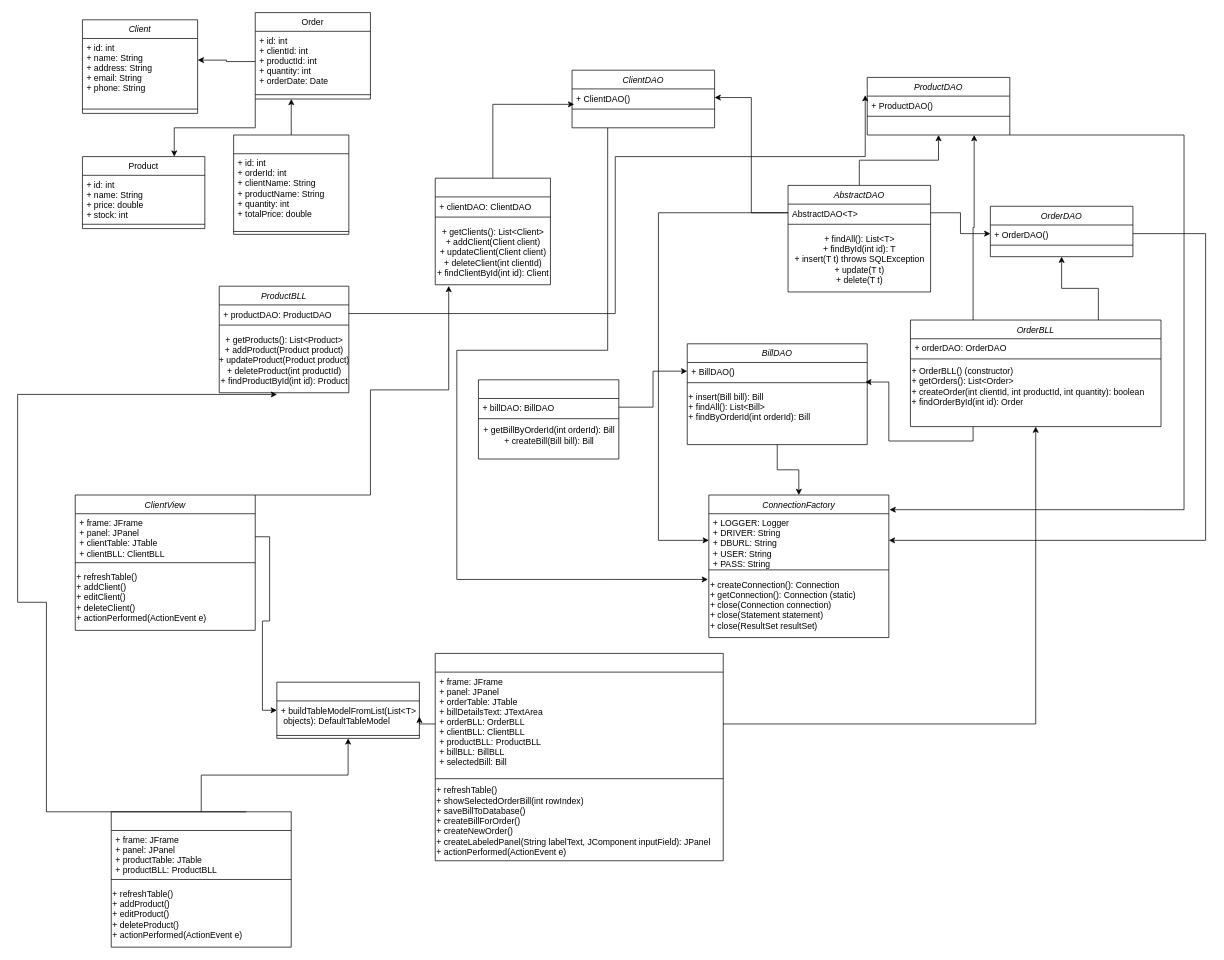
The diagram is 1224 pixels wide and 960 high, and some of its shapes have lost their labels. The shapes that lost their labels are listed below. From the top down, each one's box as (x1, y1, x2, y2) in pixels, then its label:
(233, 134, 349, 234): Bill
(435, 177, 550, 285): ClientBLL
(478, 379, 619, 459): BillBLL
(276, 681, 419, 738): TableUtils
(435, 653, 723, 861): OrderView
(111, 811, 291, 947): ProductView
